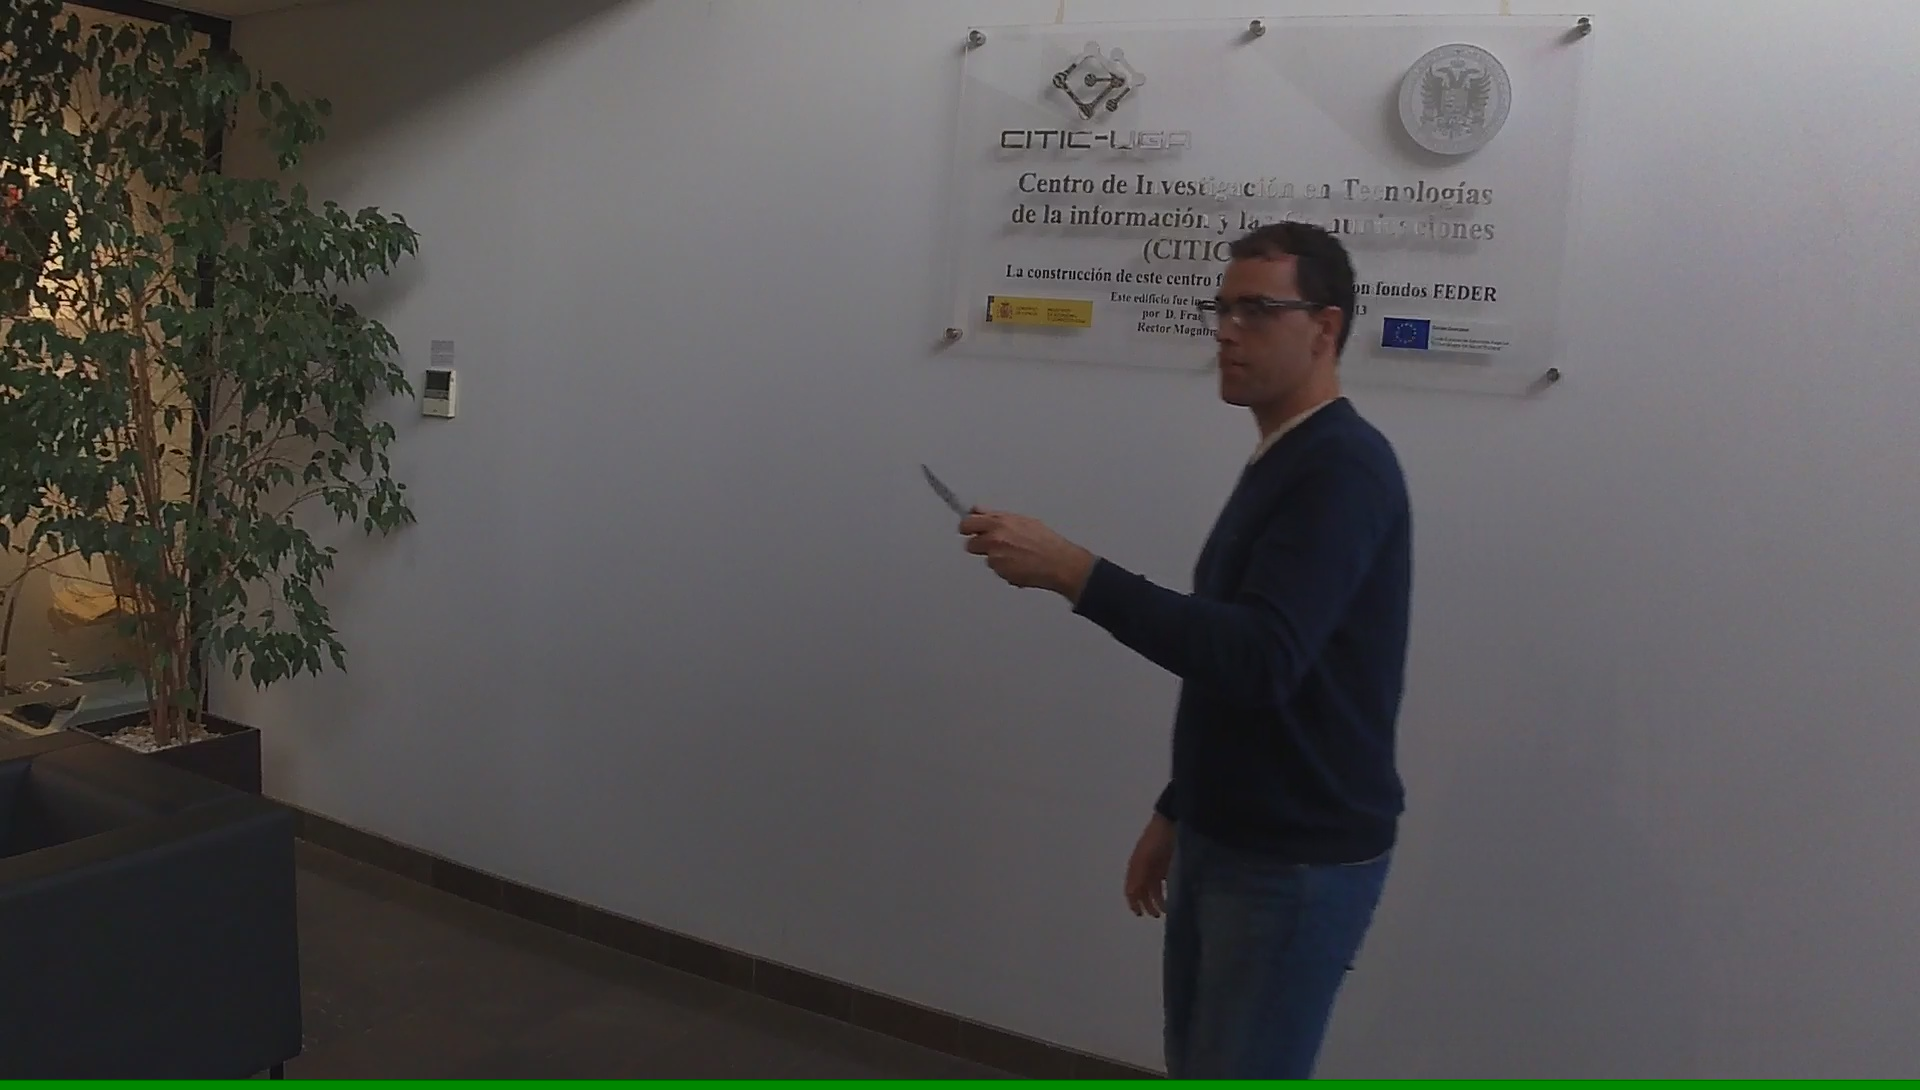knife: (914, 453, 1015, 573)
